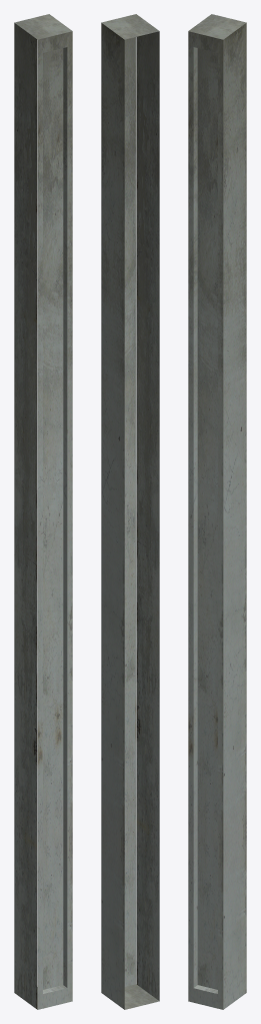
3 views of the same model, side by side, from view 1: azimuth 30°, elevation 25°; view 2: azimuth 210°, elevation 25°; view 3: azimuth 330°, elevation 25° (orthographic).
Visible parts, largest first — view 1: Cube (5); view 2: Cube (5); view 3: Cube (5).
Part boxes in pixels (bbox=[...]): Cube (5): bbox=[14, 14, 72, 1009]; Cube (5): bbox=[101, 14, 159, 1009]; Cube (5): bbox=[188, 14, 246, 1009].
Size of the model in its own units: 21.46 by 567 by 24.87.
